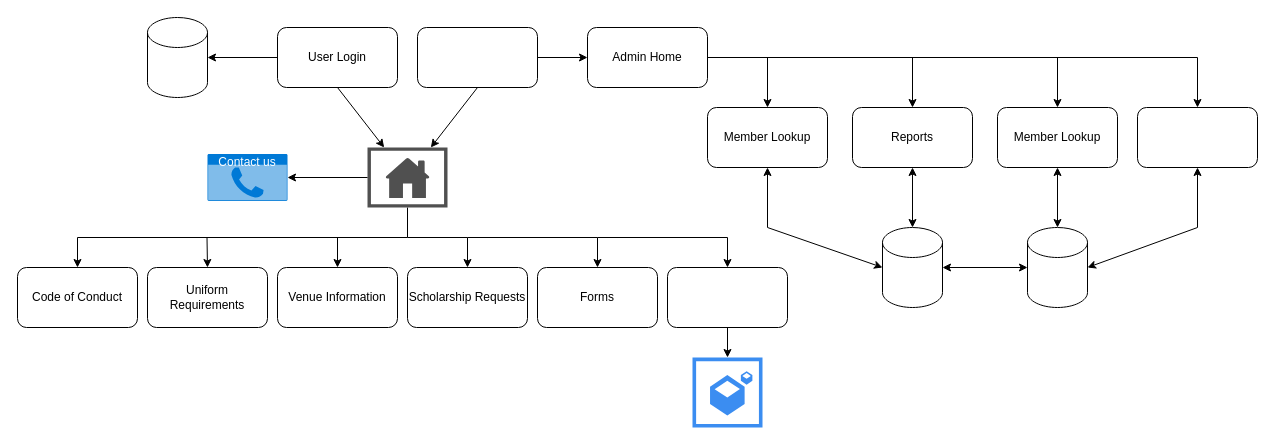
Image size: 1275x445. Some labels were removed from this diagram. The shapes that lost their labels are listed below. From the top down, each one's centre as x and y in pixels, then its label:
At pixel 177 57: "User Login Data".
At pixel 477 57: "Admin Login".
At pixel 1197 137: "Push Notifications".
At pixel 912 267: "Training Data".
At pixel 1057 267: "Member Info".
At pixel 727 297: "Training".
